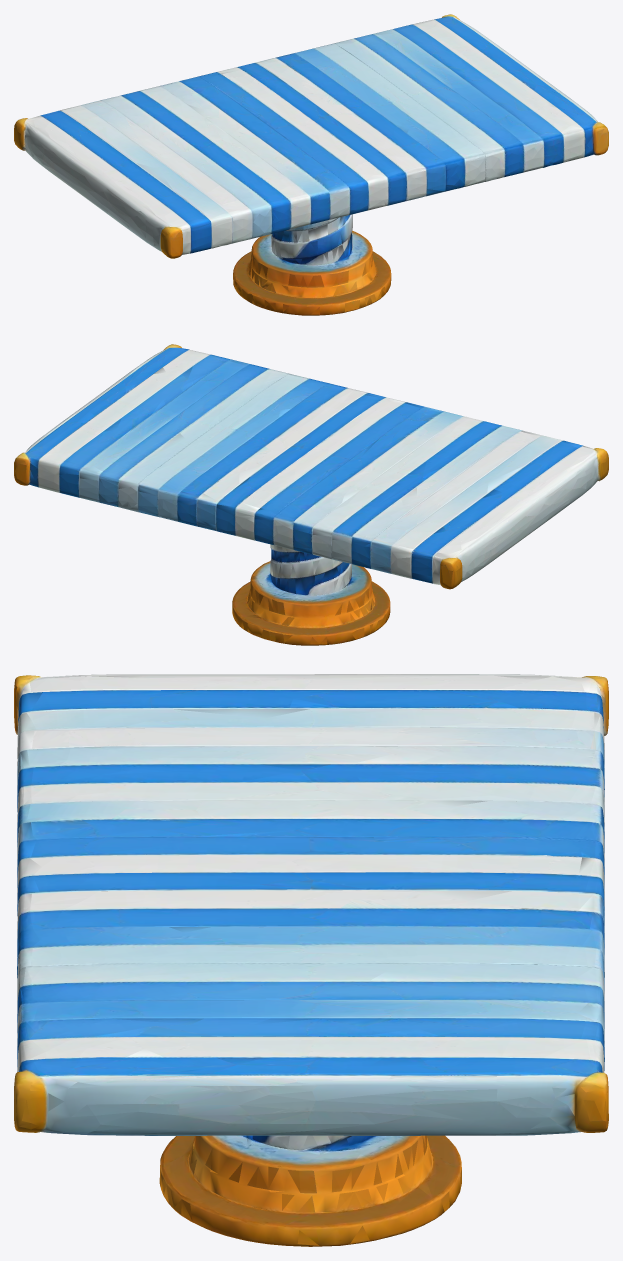
Rendered from platform_2.glb.
3 views of the same model, one above another, from view 1: azimuth 30°, elevation 25°; view 2: azimuth 150°, elevation 25°; view 3: azimuth 270°, elevation 25° (orthographic). The views are drawn at different scales.
Parts seen in each view (by area): view 1: tripo_node_973825b9-65b6-4ddd-a327-e8d8a3b7a922; view 2: tripo_node_973825b9-65b6-4ddd-a327-e8d8a3b7a922; view 3: tripo_node_973825b9-65b6-4ddd-a327-e8d8a3b7a922.
Part boxes in pixels (x1=…): tripo_node_973825b9-65b6-4ddd-a327-e8d8a3b7a922: x1=14, y1=14, x2=608, y2=315; tripo_node_973825b9-65b6-4ddd-a327-e8d8a3b7a922: x1=14, y1=344, x2=608, y2=645; tripo_node_973825b9-65b6-4ddd-a327-e8d8a3b7a922: x1=14, y1=674, x2=608, y2=1246.
Size of the model in its own units: 0.9804 by 0.3465 by 0.5968.
Materials: 1 (1 with a texture image).
